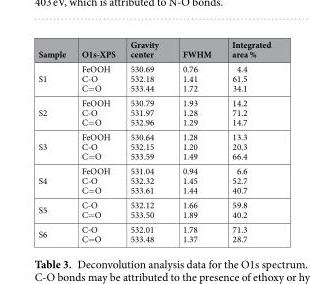table: (37, 37, 270, 244)
table column: (169, 37, 220, 244), (220, 37, 270, 244), (73, 37, 122, 244), (122, 37, 169, 244), (37, 37, 73, 244)
table column header: (37, 37, 270, 61)
table row: (37, 61, 270, 95), (37, 95, 270, 129), (37, 129, 270, 163), (37, 163, 270, 197), (37, 37, 270, 61), (37, 197, 270, 221), (37, 221, 270, 244)
